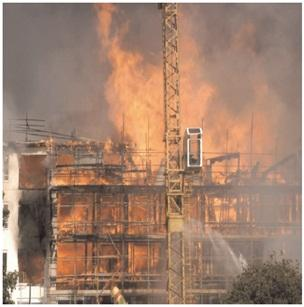fire: (102, 11, 254, 181)
